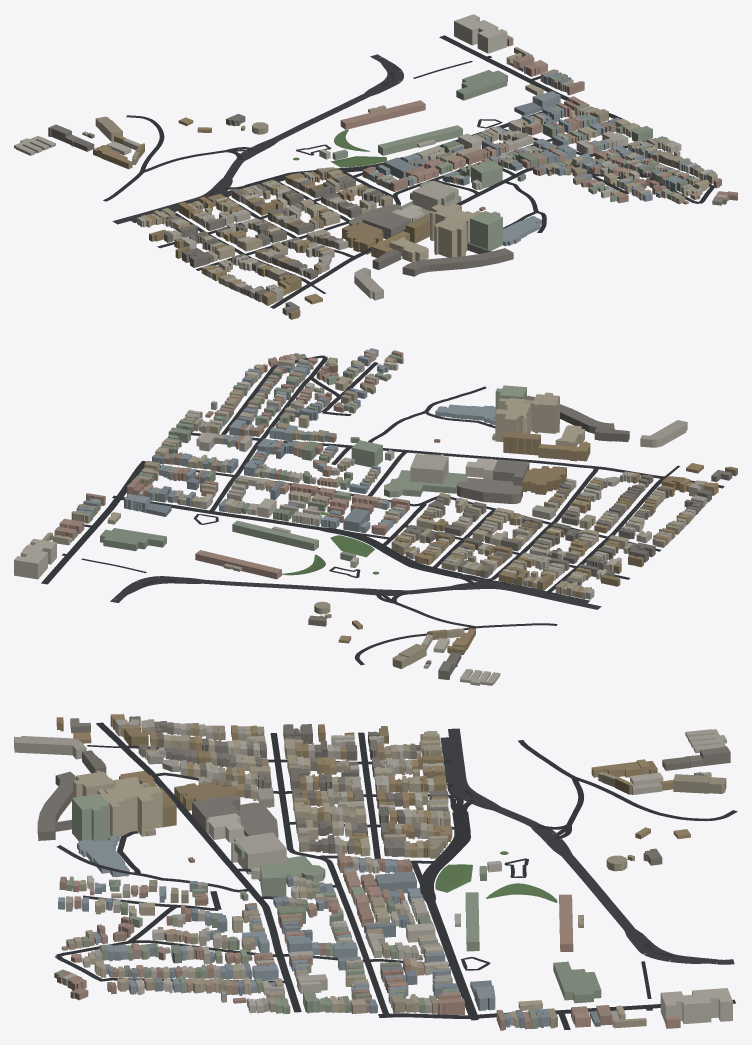
File: tile_7_14.glb
3 renders of one model, top to bottom at view 1: azimuth 30°, elevation 25°; view 2: azimuth 150°, elevation 25°; view 3: azimuth 270°, elevation 25°, orthographic. The views are drawn at different scales.
Parts seen in each view (by area): view 1: bld_7_14, road_7_14, grn_7_14; view 2: bld_7_14, road_7_14, grn_7_14; view 3: bld_7_14, road_7_14, grn_7_14.
Boxes of the visible parts, left/top/right/bottom form: bld_7_14: left=14, top=14, right=737, bottom=319; road_7_14: left=103, top=35, right=714, bottom=308; grn_7_14: left=293, top=129, right=386, bottom=167; bld_7_14: left=14, top=348, right=737, bottom=685; road_7_14: left=41, top=355, right=724, bottom=665; grn_7_14: left=282, top=512, right=379, bottom=575; bld_7_14: left=14, top=714, right=732, bottom=1030; road_7_14: left=55, top=722, right=737, bottom=1029; grn_7_14: left=394, top=851, right=557, bottom=904.
Bounding box in the file's own units: 844 × 102 × 855.
